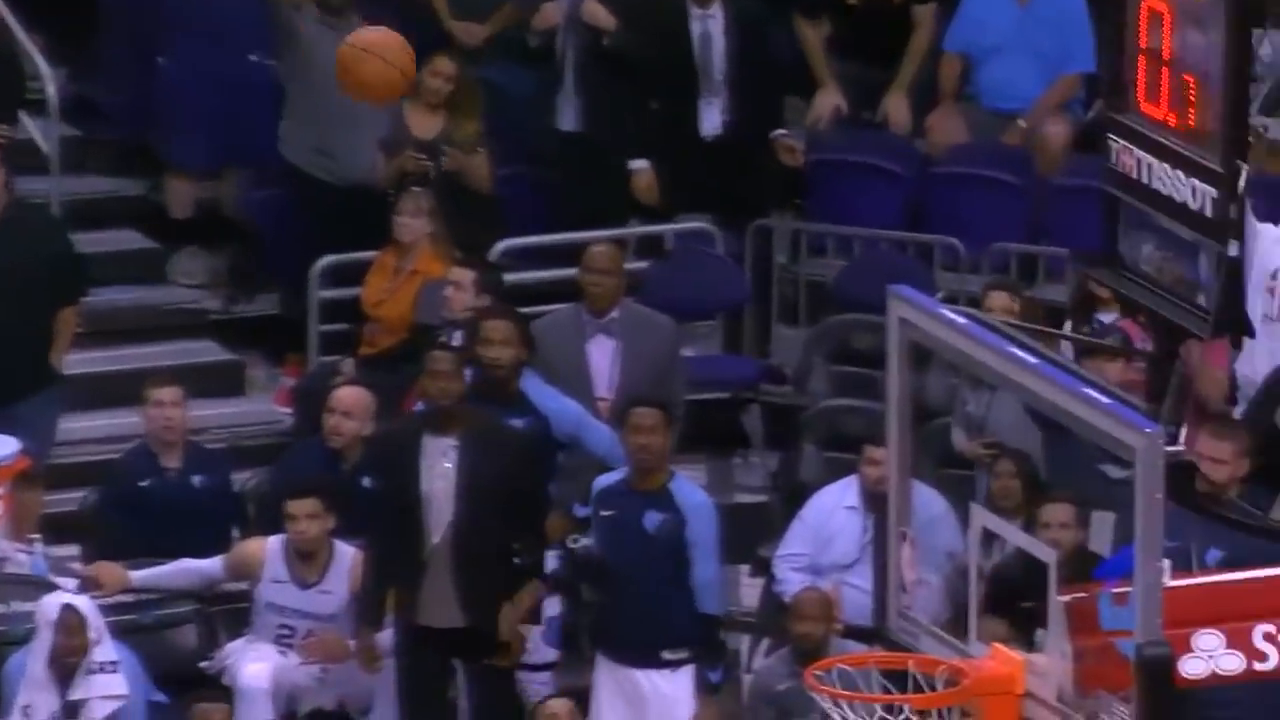ball: (328, 26, 422, 106)
